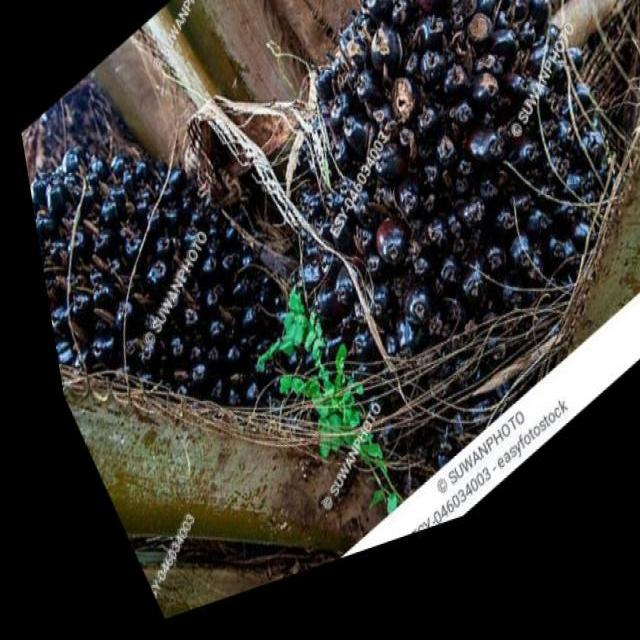Unripe: (168, 0, 640, 566), (13, 30, 330, 578)
